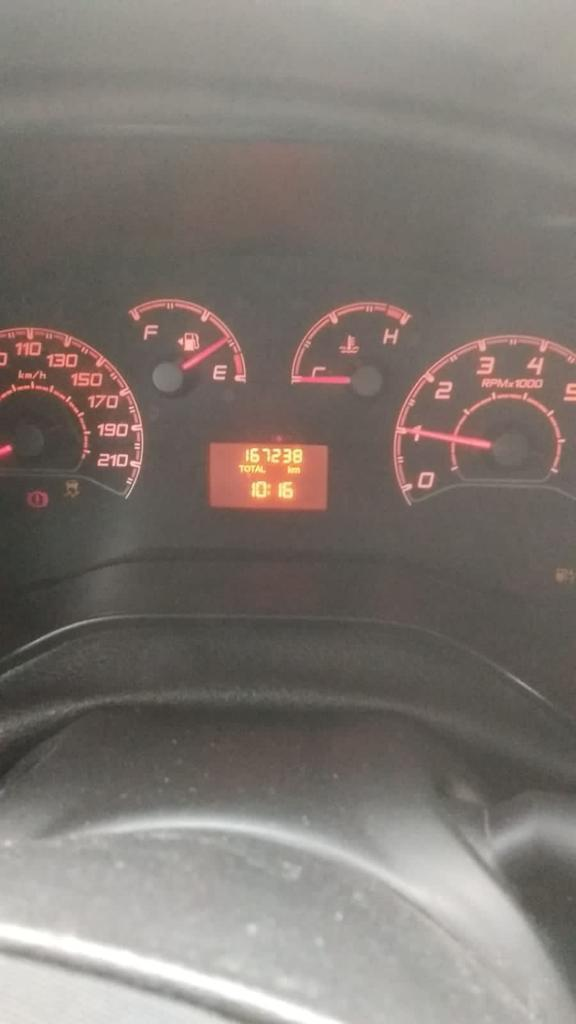0: (255, 479, 266, 497)
1: (251, 479, 255, 499), (278, 481, 282, 499), (244, 448, 249, 462)
2: (271, 447, 281, 463)
3: (282, 447, 291, 464)
6: (282, 480, 294, 499), (250, 446, 260, 462)
7: (261, 447, 270, 462)
8: (292, 447, 303, 463)
X: (291, 466, 302, 475), (260, 464, 267, 473), (237, 463, 243, 472), (243, 463, 249, 472), (267, 483, 271, 495), (250, 463, 255, 472), (255, 464, 260, 473), (287, 465, 291, 475)
odometer: (206, 440, 332, 512)
